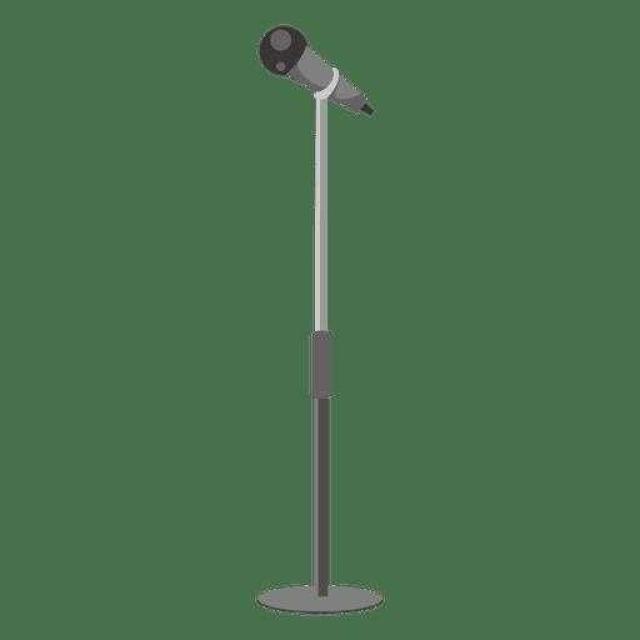microphone: (258, 24, 376, 120)
